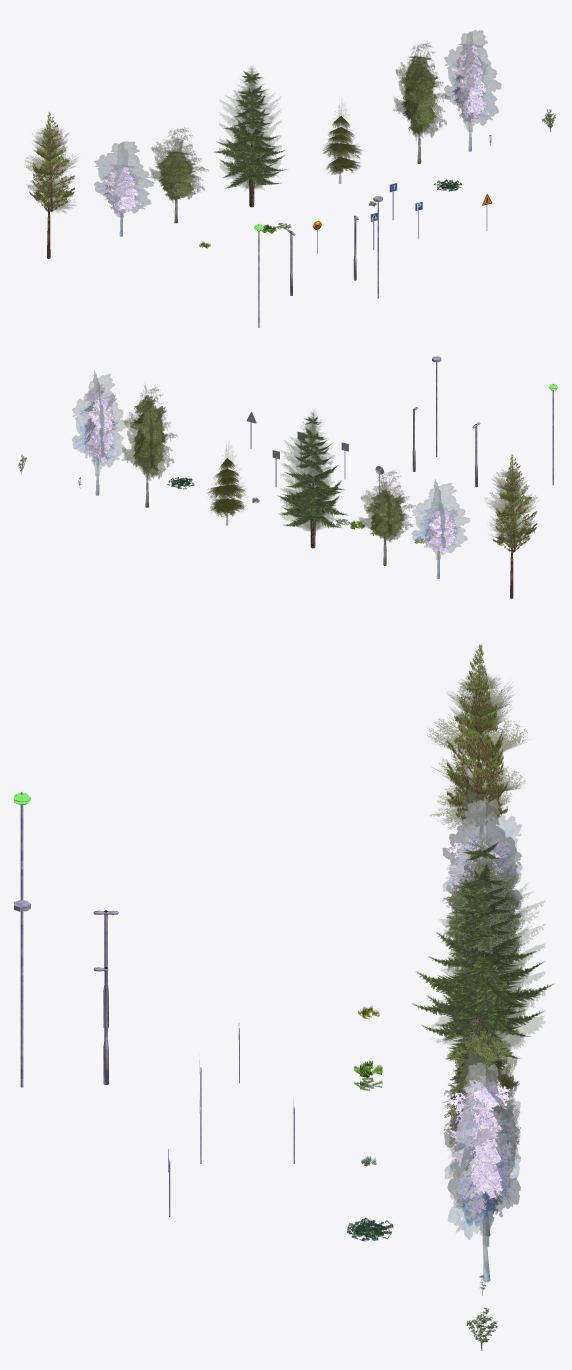
Rendered from FoliageJaLiikennemerkit.glb.
3 views of the same model, one above another, from view 1: azimuth 30°, elevation 25°; view 2: azimuth 150°, elevation 25°; view 3: azimuth 270°, elevation 25° (orthographic). The views are drawn at different scales.
Parts seen in each view (by area): view 1: spruceA, birchB_winter, pineA, birchB, birchA_winter, birchA, pineB; view 2: spruceA, birchB_winter, birchB, pineA, birchA_winter, birchA, pineB; view 3: spruceA, birchB_winter, pineA, birchA_winter, birchB, birchA, Circle.001.
Boxes of the visible parts, x1=… form: spruceA: x1=213, y1=67, x2=287, y2=207; birchB_winter: x1=444, y1=30, x2=501, y2=151; pineA: x1=25, y1=111, x2=78, y2=258; birchB: x1=393, y1=41, x2=450, y2=163; birchA_winter: x1=94, y1=141, x2=153, y2=236; birchA: x1=149, y1=127, x2=208, y2=223; pineB: x1=322, y1=104, x2=362, y2=183; spruceA: x1=277, y1=411, x2=347, y2=548; birchB_winter: x1=72, y1=371, x2=127, y2=495; birchB: x1=122, y1=386, x2=177, y2=507; pineA: x1=485, y1=454, x2=537, y2=598; birchA_winter: x1=411, y1=479, x2=469, y2=578; birchA: x1=358, y1=468, x2=416, y2=565; pineB: x1=206, y1=446, x2=245, y2=525; spruceA: x1=412, y1=832, x2=553, y2=1059; birchB_winter: x1=444, y1=1052, x2=520, y2=1282; pineA: x1=427, y1=644, x2=527, y2=833; birchA_winter: x1=442, y1=789, x2=522, y2=923; birchB: x1=444, y1=1006, x2=520, y2=1235; birchA: x1=442, y1=839, x2=522, y2=971; Circle.001: x1=14, y1=900, x2=30, y2=1087.
Bounding box in the file's own units: 36.54 × 9.42 × 17.34.
30 materials, 27 textured.
